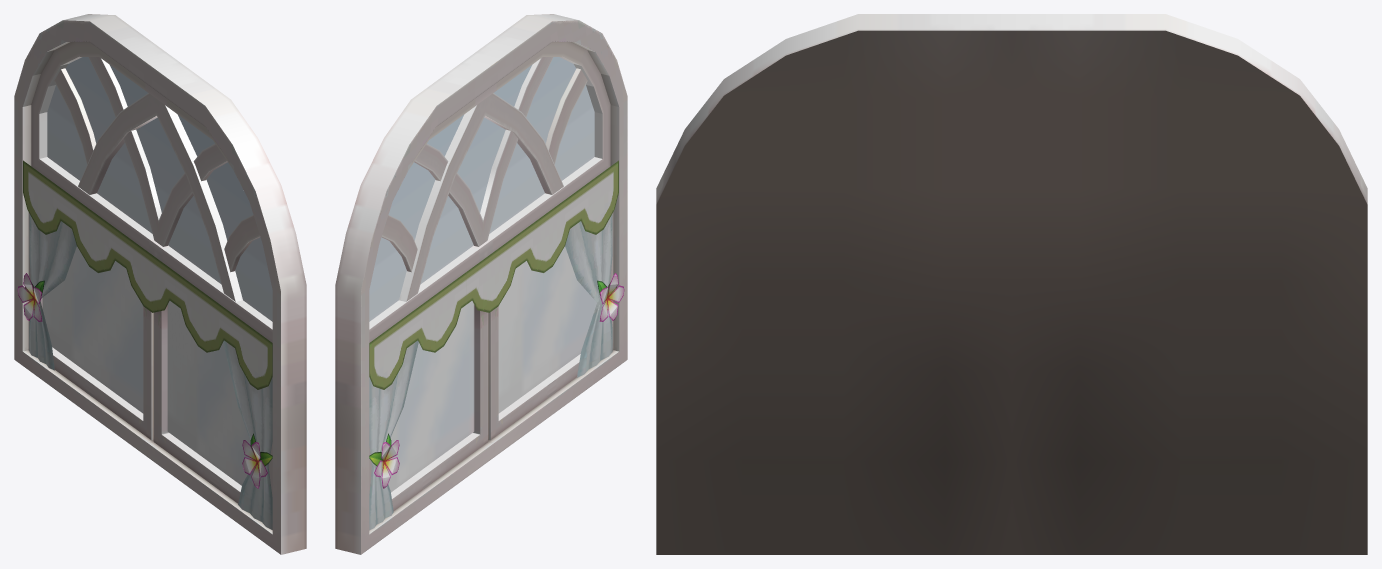
The model's file is my_sunshineresort_01_window_02.glb.
3 renders of one model, left to right at view 1: azimuth 30°, elevation 25°; view 2: azimuth 150°, elevation 25°; view 3: azimuth 270°, elevation 25°, orthographic. The views are drawn at different scales.
Visible parts, largest first — view 1: my_sunshineresort_01_window_02; view 2: my_sunshineresort_01_window_02; view 3: my_sunshineresort_01_window_02.
Boxes of the visible parts, x1=… form: my_sunshineresort_01_window_02: x1=14, y1=14, x2=306, y2=554; my_sunshineresort_01_window_02: x1=335, y1=14, x2=627, y2=554; my_sunshineresort_01_window_02: x1=656, y1=14, x2=1367, y2=554.
Bounding box in the file's own units: 0.00111 × 0.0134 × 0.0164.
3 materials, 3 textured.
